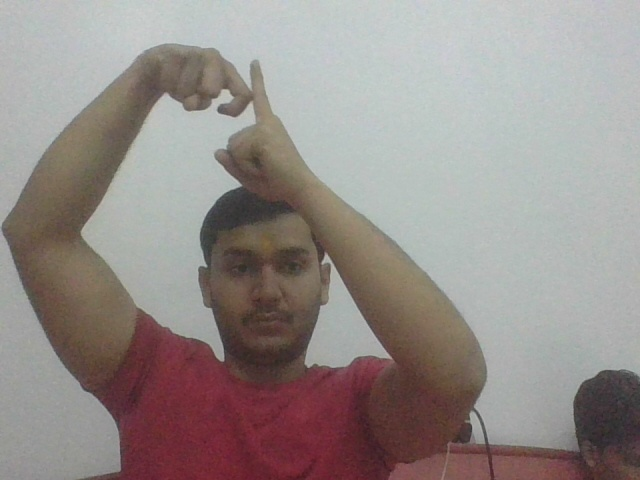K: (208, 44, 278, 141)
